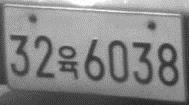0: (108, 39, 129, 83)
2: (33, 34, 56, 80)
3: (7, 32, 29, 77), (132, 41, 153, 85)
6: (82, 38, 105, 81)
8: (157, 42, 179, 87)
육: (57, 45, 80, 79)
